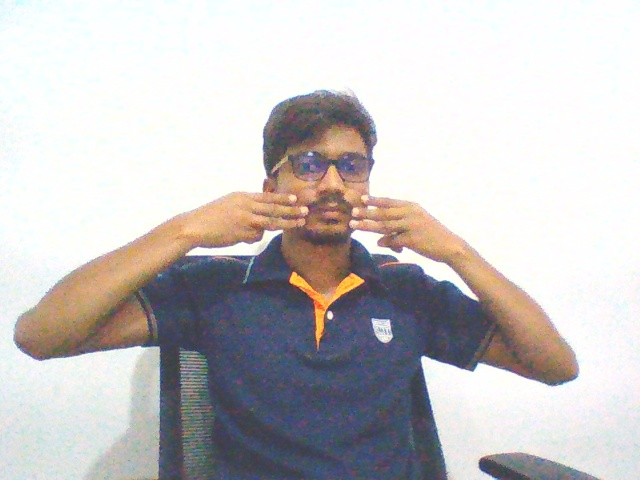cat: (163, 184, 473, 273)
